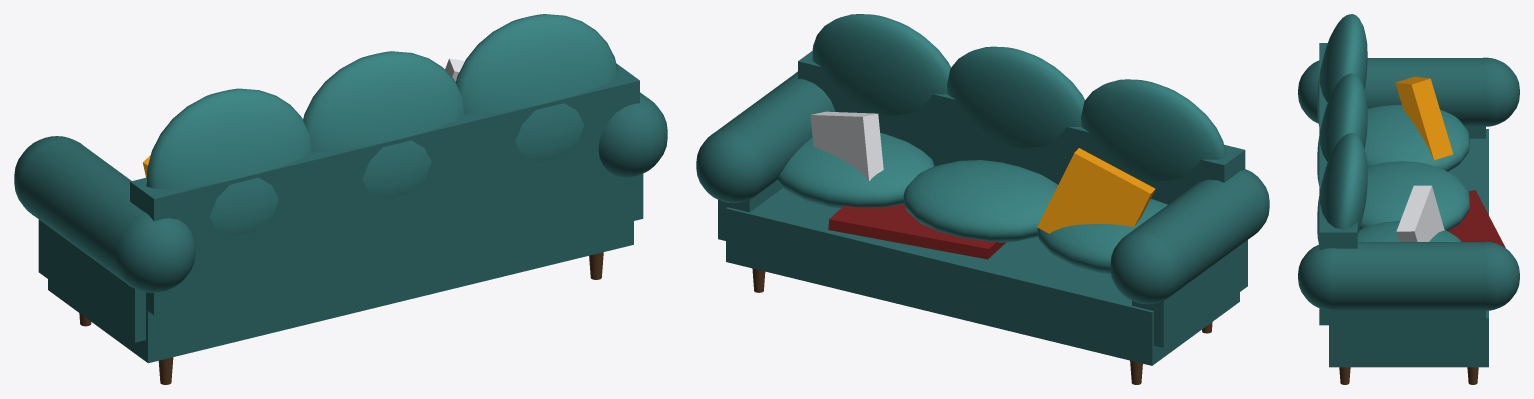
The model's file is sofa.glb.
3 renders of one model, left to right at view 1: azimuth 30°, elevation 25°; view 2: azimuth 150°, elevation 25°; view 3: azimuth 270°, elevation 25°, orthographic. The views are drawn at different scales.
Parts seen in each view (by area): view 1: sofa; view 2: sofa; view 3: sofa.
Part boxes in pixels (x1,y1,x2,y2): sofa: [14, 14, 667, 384]; sofa: [696, 14, 1269, 384]; sofa: [1298, 14, 1519, 384].
Bounding box in the file's own units: 3.94 × 1.87 × 1.73.
